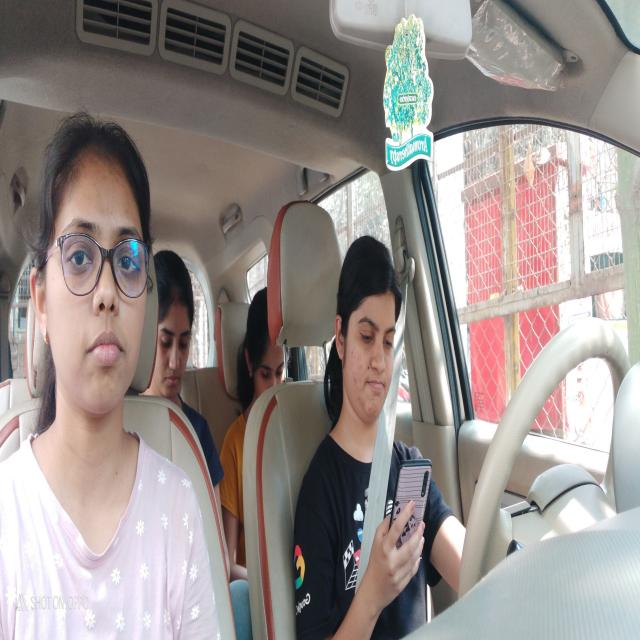mobile: (390, 456, 439, 573)
person: (30, 86, 158, 450), (328, 231, 410, 417), (150, 245, 203, 412), (245, 264, 295, 419)
